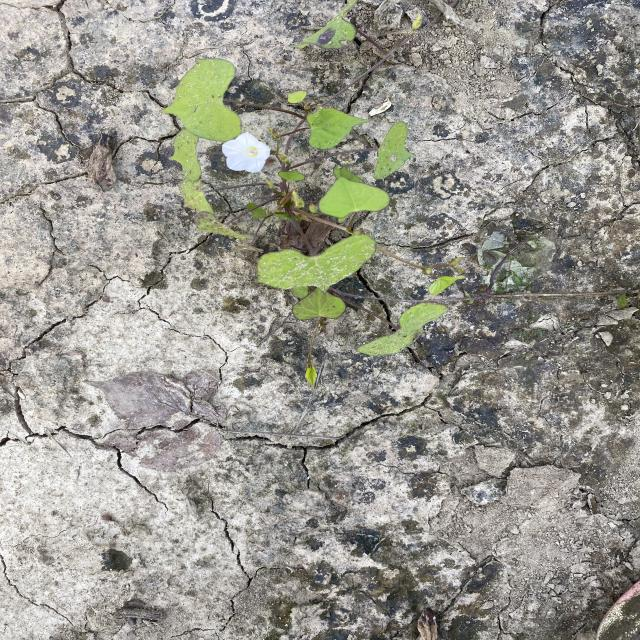MorningGlory: (158, 2, 636, 391)
